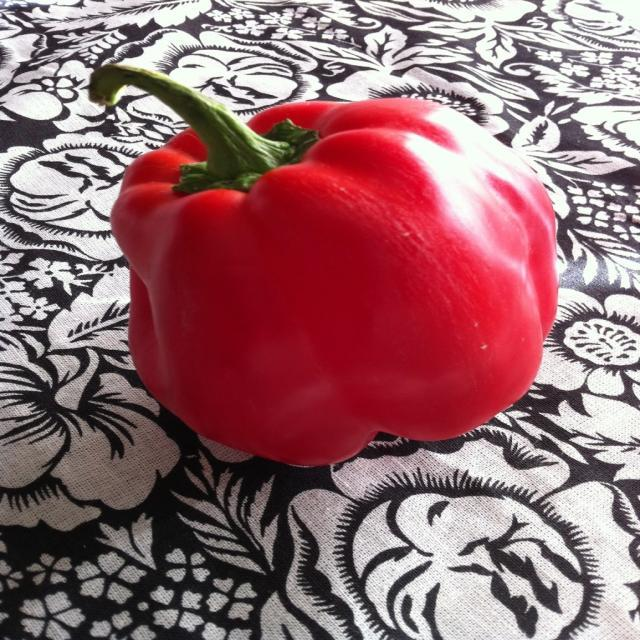Bell pepper: (85, 64, 557, 464)
